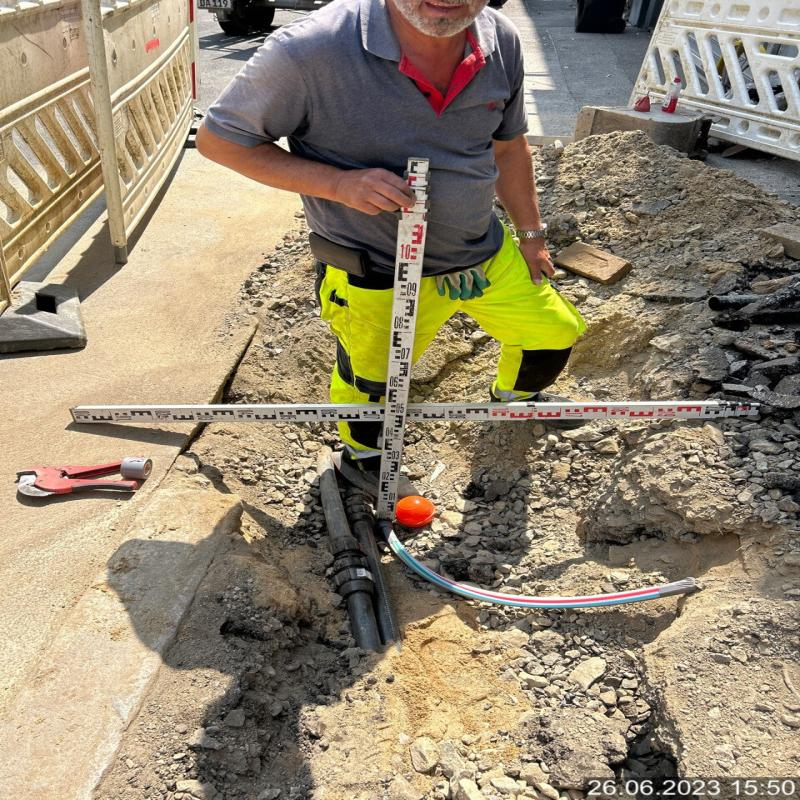Kugelmarker: (395, 496, 436, 527)
